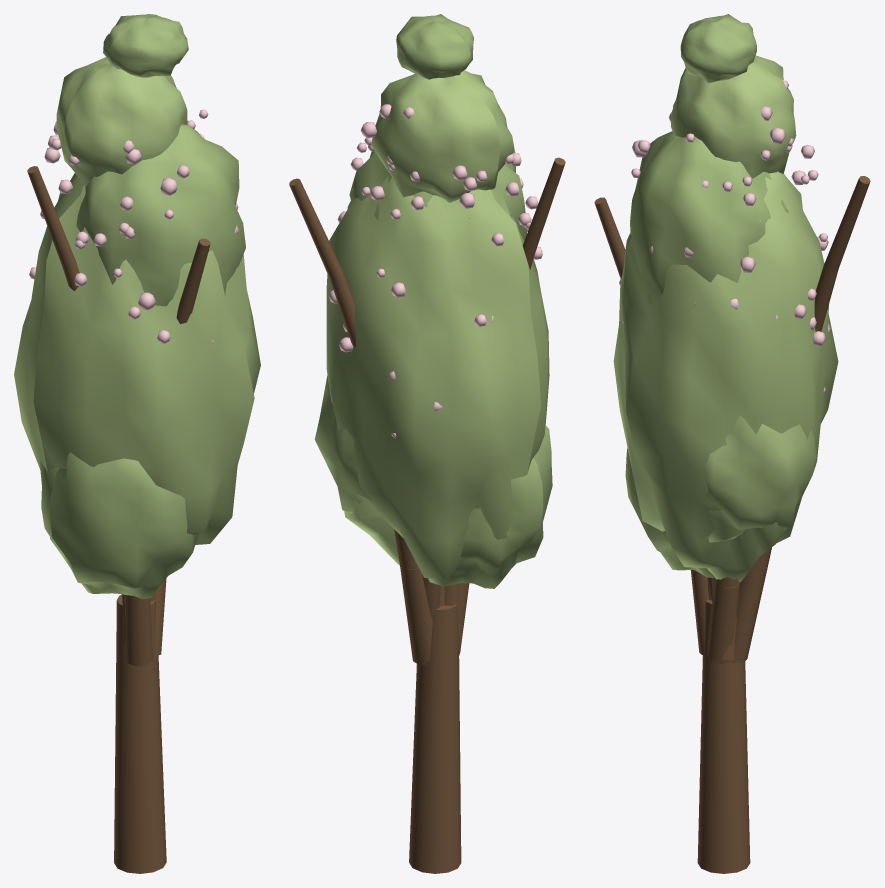
The model's file is amanogawa-tavasz.glb.
3 views of the same model, side by side, from view 1: azimuth 30°, elevation 25°; view 2: azimuth 150°, elevation 25°; view 3: azimuth 270°, elevation 25° (orthographic).
Visible parts, largest first — view 1: korona-1, korona-4, korona-2, korona-5, torzs, korona-6, virag, ag-3-1, ag-3-5, ag-2-5, ag-7-1; view 2: korona-1, korona-5, torzs, korona-2, korona-6, virag, korona-3, korona-4, ag-6-1, ag-6-5, ag-3-5, ag-6-4; view 3: korona-1, korona-4, torzs, korona-3, korona-5, korona-6, virag, ag-6-1, ag-7-1, ag-6-5, korona-2, ag-2-5 (+2 smaller).
Boxes of the visible parts, box(x1,y1,x2,y2) form: korona-1: box(14, 173, 260, 544); korona-4: box(76, 124, 245, 306); korona-2: box(39, 452, 198, 599); korona-5: box(56, 57, 187, 186); torzs: box(114, 594, 166, 873); korona-6: box(103, 14, 188, 77); virag: box(29, 109, 238, 343); ag-3-1: box(124, 595, 153, 666); ag-3-5: box(27, 166, 76, 269); ag-2-5: box(176, 238, 210, 324); ag-7-1: box(154, 579, 166, 655); korona-1: box(326, 176, 549, 579); korona-5: box(371, 70, 514, 202); torzs: box(409, 604, 461, 873); korona-2: box(428, 425, 552, 588); korona-6: box(396, 14, 473, 79); virag: box(328, 104, 542, 438); korona-3: box(314, 375, 372, 513); korona-4: box(347, 151, 526, 240); ag-6-1: box(400, 566, 432, 665); ag-6-5: box(289, 178, 343, 279); ag-3-5: box(522, 157, 565, 257); ag-6-4: box(329, 272, 355, 348); korona-1: box(613, 171, 838, 582); korona-4: box(630, 131, 788, 305); torzs: box(697, 600, 750, 873); korona-3: box(704, 415, 816, 542); korona-5: box(671, 55, 796, 178); korona-6: box(680, 14, 756, 82); virag: box(619, 80, 830, 392); ag-6-1: box(730, 557, 769, 662); ag-7-1: box(707, 581, 740, 663); ag-6-5: box(824, 176, 870, 271); korona-2: box(625, 448, 716, 578); ag-2-5: box(594, 197, 625, 278).
Size of the model in its own units: 1.87 by 6.74 by 2.
